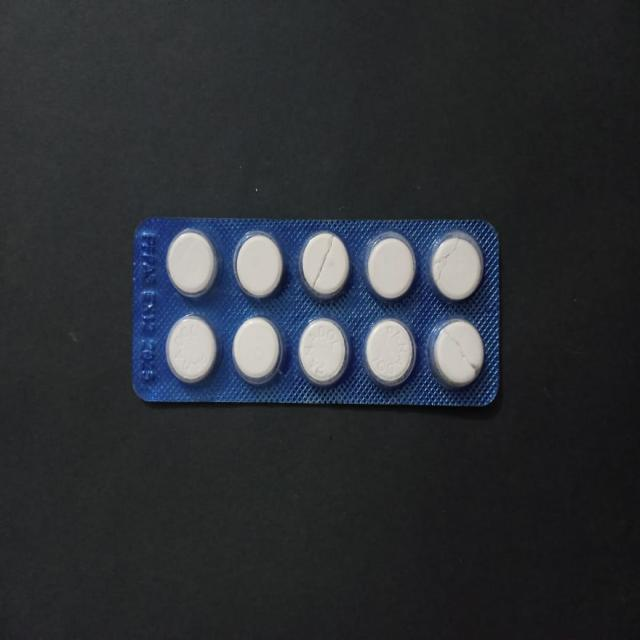defect: (424, 226, 488, 306), (425, 314, 488, 395), (297, 228, 354, 304)
